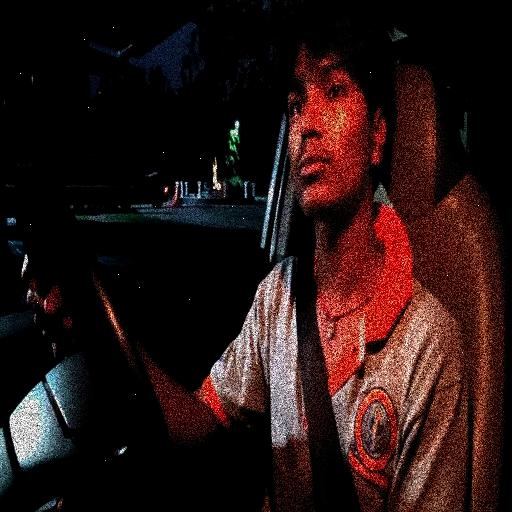Reaching_behind: (221, 14, 470, 512)
